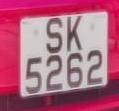2: (84, 46, 106, 92), (44, 53, 66, 95)
5: (23, 53, 47, 98)
6: (64, 51, 87, 92)
K: (66, 12, 86, 57)
S: (45, 14, 65, 58)
